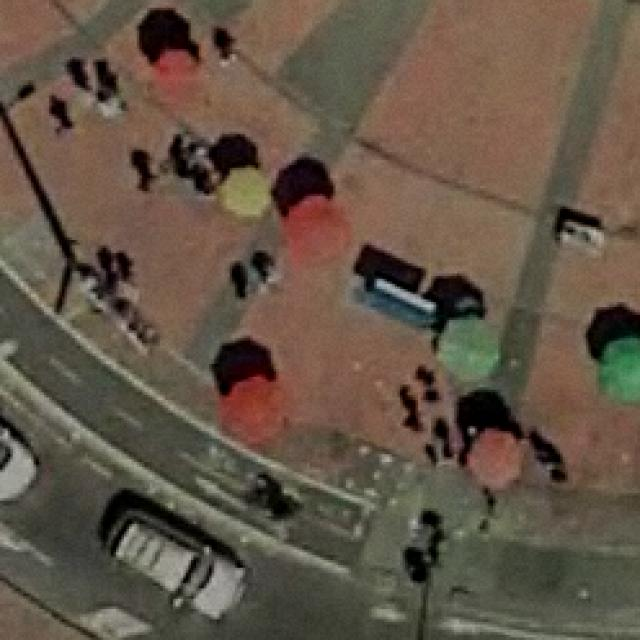vendedor_ambulante: (278, 189, 353, 270), (217, 370, 292, 450), (432, 309, 504, 382), (466, 421, 524, 494), (591, 328, 640, 410), (214, 162, 276, 224), (146, 42, 208, 94)
